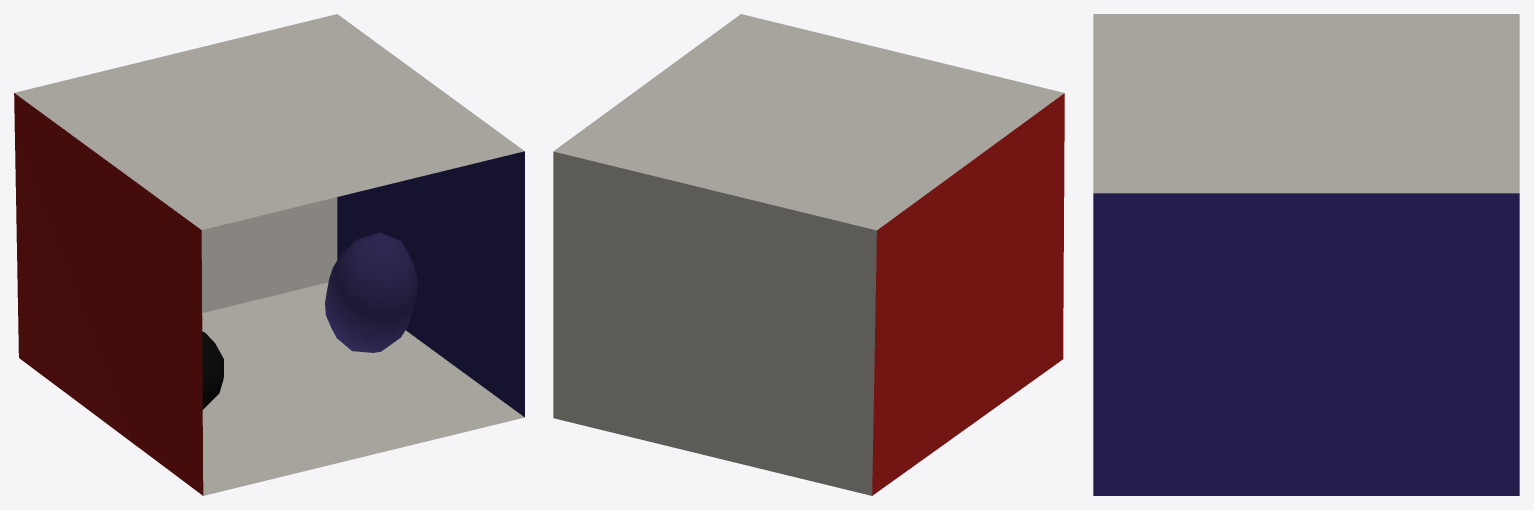
File: CornellBox-Ellipsoid-522.obj
The picture shows the model from 3 angles, left to right: view 1: azimuth 30°, elevation 25°; view 2: azimuth 150°, elevation 25°; view 3: azimuth 270°, elevation 25°; orthographic projection. The views are drawn at different scales.
Parts seen in each view (by area): view 1: ceiling, leftWall, floor, rightWall, backWall, leftSphere, rightSphere; view 2: backWall, ceiling, leftWall; view 3: rightWall, ceiling.
Part boxes in pixels (x1=…): ceiling: x1=14, y1=14, x2=524, y2=229; leftWall: x1=14, y1=93, x2=203, y2=495; floor: x1=202, y1=282, x2=524, y2=495; rightWall: x1=337, y1=151, x2=524, y2=417; backWall: x1=201, y1=197, x2=337, y2=312; leftSphere: x1=325, y1=232, x2=417, y2=352; rightSphere: x1=202, y1=331, x2=223, y2=409; backWall: x1=553, y1=151, x2=876, y2=495; ceiling: x1=553, y1=14, x2=1064, y2=230; leftWall: x1=872, y1=93, x2=1064, y2=495; rightWall: x1=1093, y1=193, x2=1519, y2=495; ceiling: x1=1093, y1=14, x2=1519, y2=193.
Size of the model in its own units: 2.02 by 1.59 by 2.03.
